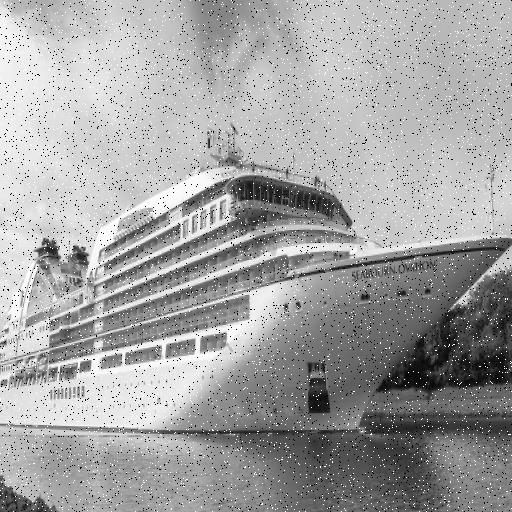cruises: (1, 123, 512, 448)
